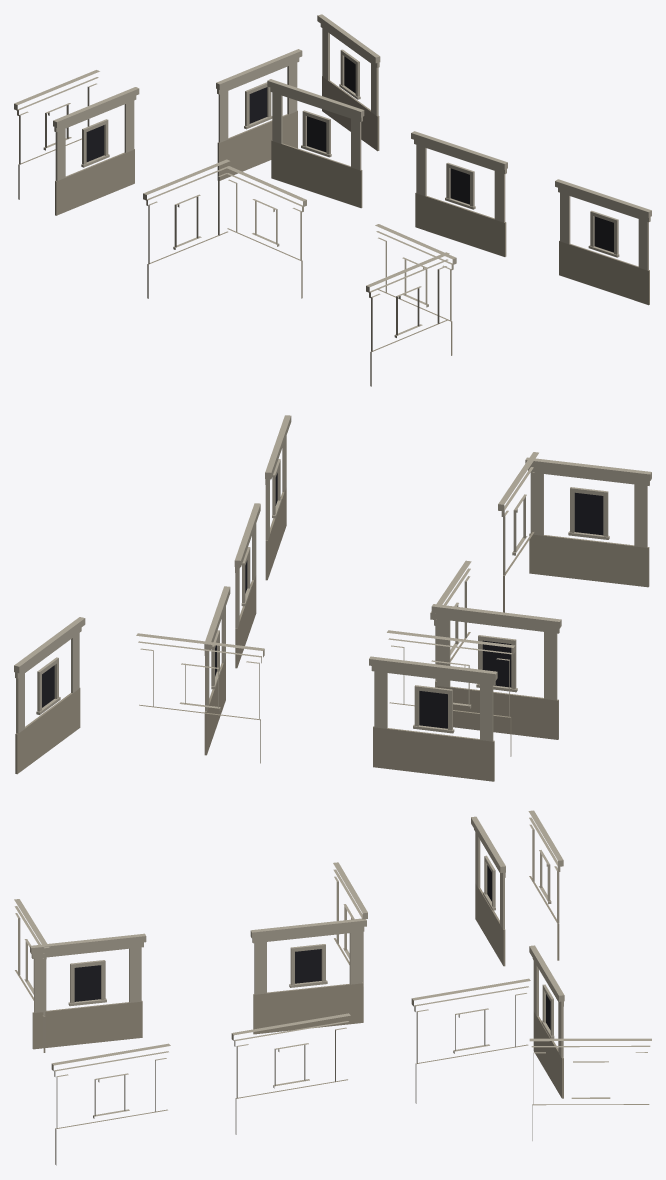
3 renders of one model, top to bottom at view 1: azimuth 30°, elevation 25°; view 2: azimuth 150°, elevation 25°; view 3: azimuth 270°, elevation 25°, orthographic. The views are drawn at different scales.
Visible parts, largest first — view 1: detail; view 2: detail; view 3: detail.
Part boxes in pixels (box(x1,y1,x2,y2)): detail: box(14, 14, 651, 386); detail: box(14, 415, 651, 781); detail: box(14, 810, 651, 1165).
Bounding box in the file's own units: 22.48 × 7.09 × 28.59.
